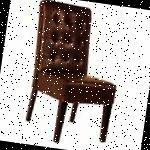Silla: (22, 0, 127, 149)
